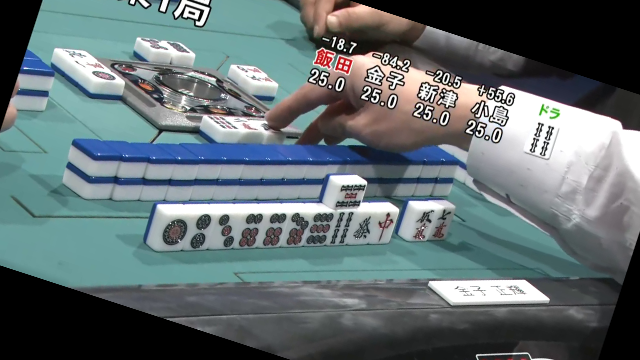Tehai: (142, 191, 459, 253)
